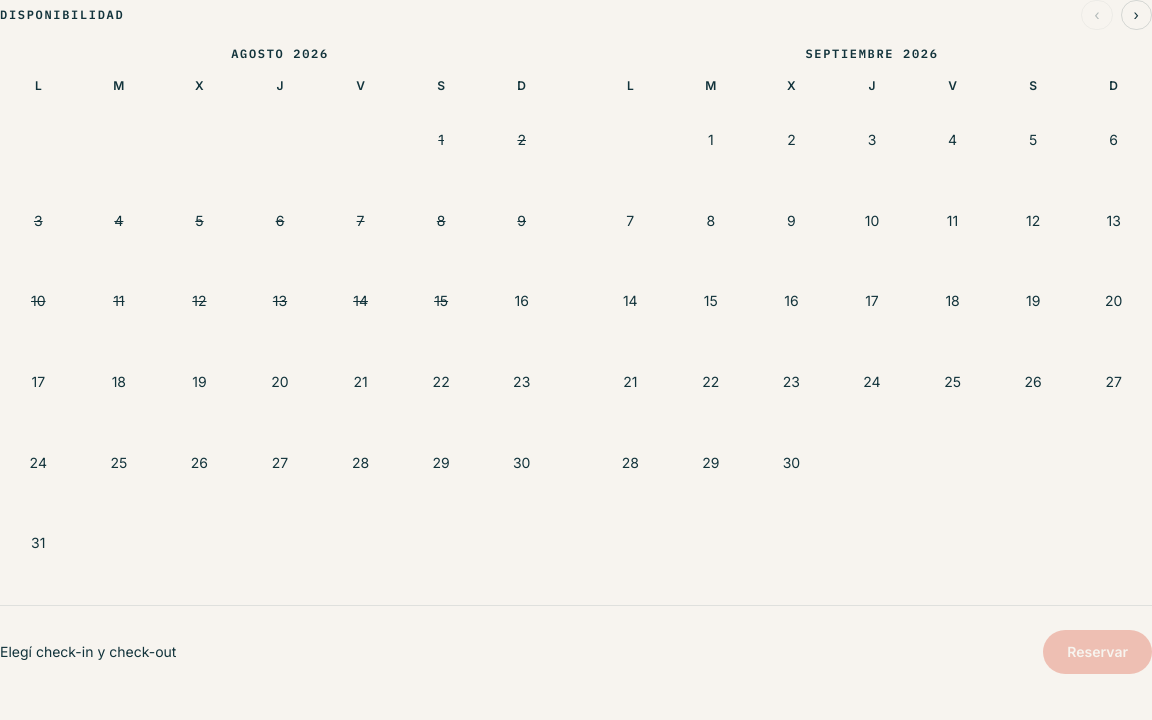
Test: AvailabilityCalendar — flujo de reserva completo › abre el modal con el rango elegido y el precio total
The image size is (1152, 720).
Click the button "20" below "Agosto" at (280, 382), box [242,344,318,420]
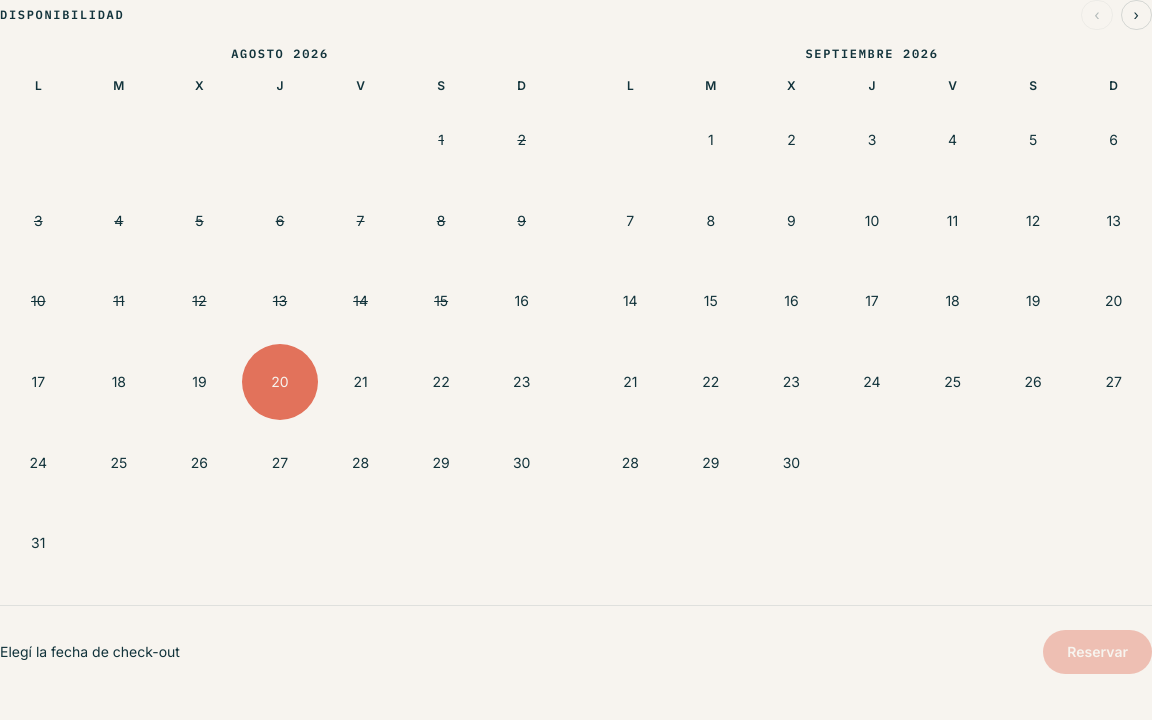
Click the 2nd button "24" at (38, 463), box [0,424,77,501]
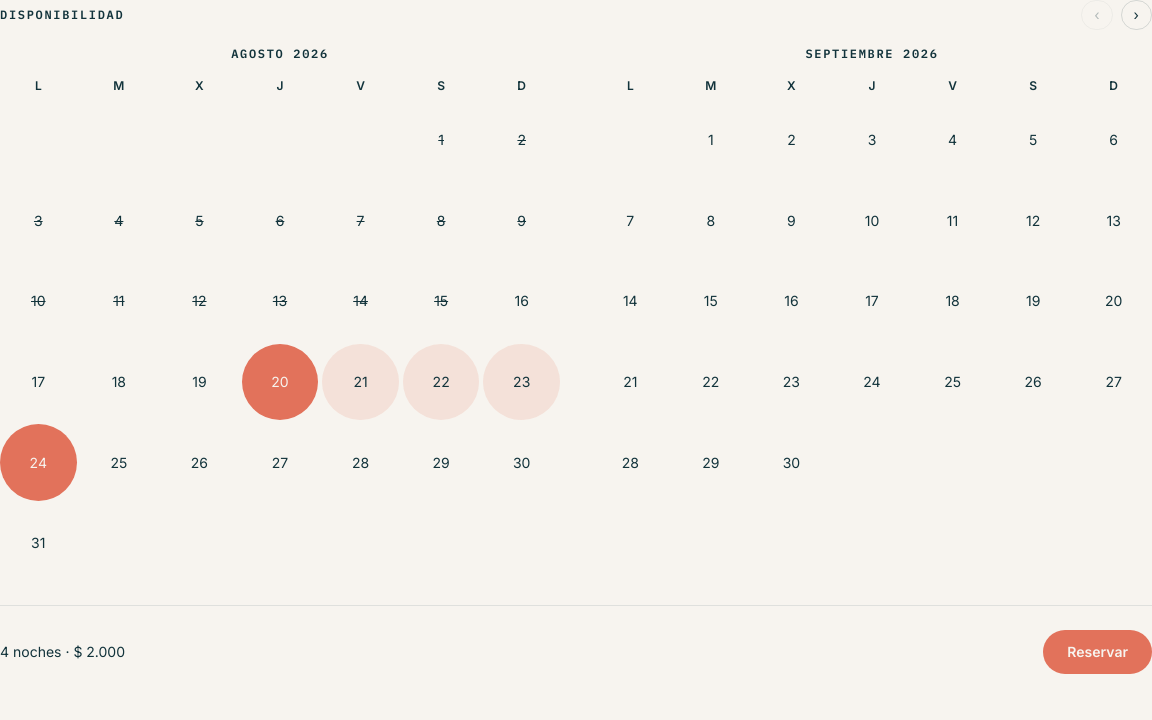
Click the button "Reservar" at (1098, 652), box [1043,630,1151,674]
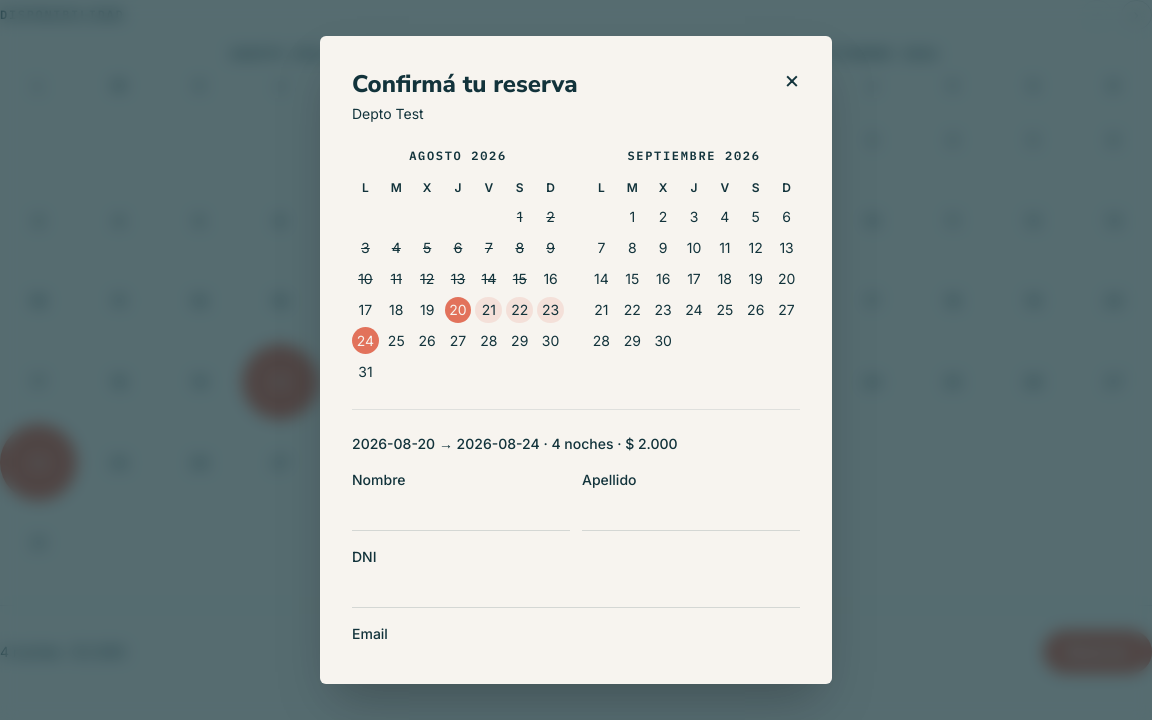
Expected: the heading "Confirmá tu reserva" is shown, [352,68,578,100]
Expected: the text "2026-08-20 → 2026-08-24 · 4 noches · $ 2.000" is shown, [352,435,678,452]
